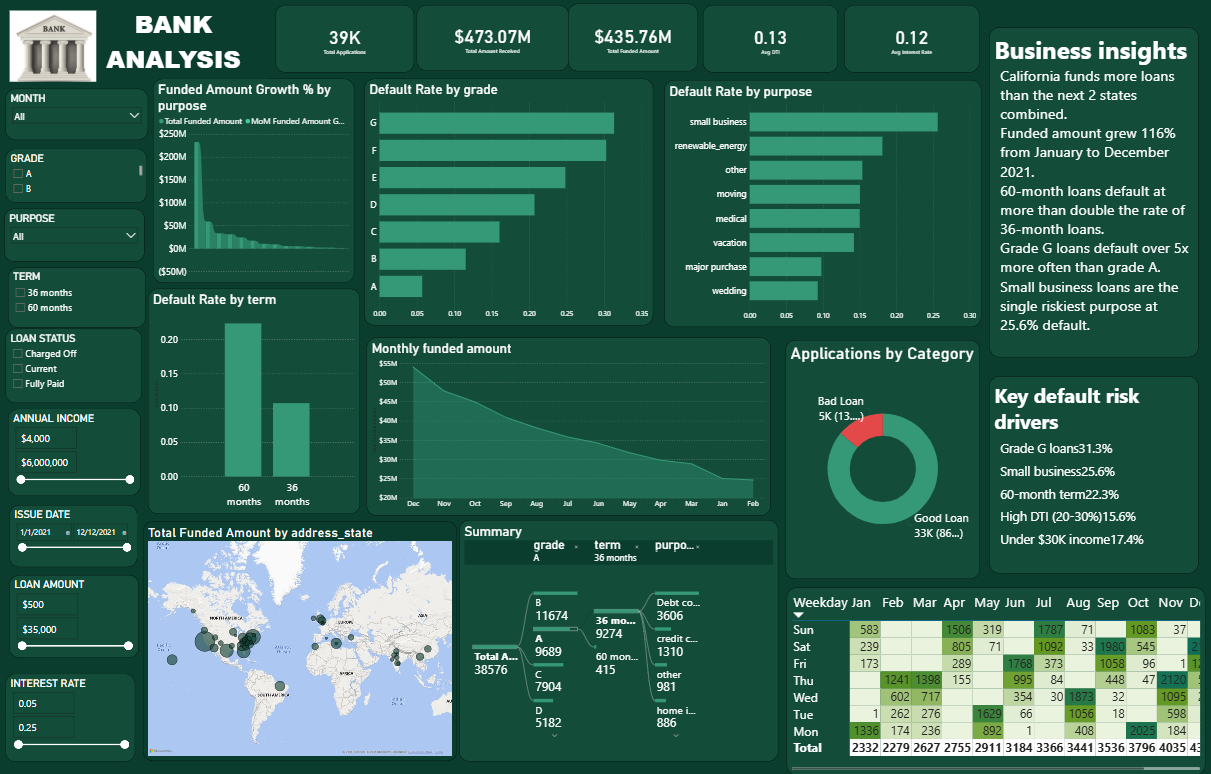

The dashboard page shown, as its layout file describes it:
{"tool":"powerbi","page":{"name":"Page 1","canvas":[3600,2300],"ordinal":0},"visuals":[{"type":"slicer","title":"MONTH","fields":{"Values":["DimDate.MonthName"]},"box":[24,264,422.4,152],"z":0},{"type":"card","fields":{"Values":["Table.Total Applications"]},"box":[822,14,410,200],"z":1000},{"type":"card","fields":{"Values":["Table.Total Amount Received"]},"box":[1240,15,450,195],"z":2000},{"type":"card","fields":{"Values":["Table.Avg Interest Rate"]},"box":[2507.2,16,400,200],"z":3000},{"type":"card","fields":{"Values":["Table.Total Funded Amount"]},"box":[1690,10,385,200],"z":4000},{"type":"card","fields":{"Values":["Table.Avg DTI"]},"box":[2089.6,16,400,200],"z":5000},{"type":"lineChart","title":"Monthly funded amount","fields":{"Category":["DimDate.MonthName"],"Y":["Table.Total Funded Amount"]},"box":[1091.2,1000,1196.8,528],"z":6000},{"type":"donutChart","title":"Applications by Category","fields":{"Category":["loans.loan_category"],"Y":["Table.Total Applications"]},"box":[2332,1008,576,708],"z":7000},{"type":"map","fields":{"Category":["loans.address_state"],"Size":["Table.Total Funded Amount"]},"box":[430,1545,930,710],"z":8000},{"type":"clusteredBarChart","fields":{"Category":["loans.grade"],"Y":["Table.Default Rate"]},"box":[1084,232,856,730.4],"z":9000},{"type":"clusteredBarChart","fields":{"Category":["loans.purpose"],"Y":["Table.Default Rate"]},"box":[1972.8,236,939.2,732],"z":10000},{"type":"clusteredColumnChart","fields":{"Y":["Table.Default Rate"],"Category":["loans.term"]},"box":[444,856.8,628,667.2],"z":11000},{"type":"slicer","title":"GRADE","fields":{"Values":["loans.grade"]},"box":[24,440,419.2,160],"z":12000},{"type":"slicer","title":"PURPOSE","fields":{"Values":["loans.purpose"]},"box":[20,620,416,156.8],"z":13000},{"type":"slicer","title":"TERM","fields":{"Values":["loans.term"]},"box":[28,793.6,408,178.4],"z":14000},{"type":"slicer","title":"ISSUE DATE","fields":{"Values":["loans.issue_date"]},"box":[32,1496,379.2,184],"z":15000},{"type":"slicer","title":"LOAN AMOUNT","fields":{"Values":["loans.loan_amount"]},"box":[32,1702.4,384,245.6],"z":16000},{"type":"slicer","title":"INTEREST RATE","fields":{"Values":["loans.int_rate"]},"box":[24,1995.2,384,260.8],"z":17000},{"type":"slicer","title":"LOAN STATUS","fields":{"Values":["loans.loan_status"]},"box":[21.6,975.2,404,220],"z":18000},{"type":"slicer","title":"ANNUAL INCOME","fields":{"Values":["loans.annual_income"]},"box":[28,1210.4,392,257.6],"z":19000},{"type":"decompositionTreeVisual","title":"Summary","fields":{"ExplainBy":["loans.grade","loans.term","loans.purpose"],"Analyze":["Table.Total Applications"]},"box":[1365,1540,945,715],"z":19002},{"type":"pivotTable","fields":{"Rows":["loans.Weekday"],"Columns":["loans.issue_month_name"],"Values":["Table.Total Applications"]},"box":[2336,1740.8,1240,556],"z":19003},{"type":"textbox","box":[2936,80,620,976.8],"z":19004},{"type":"textbox","box":[2935.2,1115.2,620,584],"z":19005},{"type":"ribbonChart","title":" Funded Amount Growth % by purpose","fields":{"Category":["loans.purpose"],"Y":["Table.Total Funded Amount","Table.MoM Funded Amount Growth %"]},"box":[460,232,596,604.8],"z":19006},{"type":"textbox","box":[237,14.8,566.7,218.5],"z":19007},{"type":"image","box":[29.6,0,266.7,274.1],"z":19008}]}

Visuals, with their boxes in screenshot pixels (x1, y1, x2, y2), scaled from the page's 3600x2300 canvas onto the 1211x774 screenshot:
"MONTH" slicer: <bbox>8, 89, 150, 140</bbox>
card - Table.Total Applications: <bbox>277, 5, 414, 72</bbox>
card - Table.Total Amount Received: <bbox>417, 5, 568, 71</bbox>
card - Table.Avg Interest Rate: <bbox>843, 5, 978, 73</bbox>
card - Table.Total Funded Amount: <bbox>568, 3, 698, 71</bbox>
card - Table.Avg DTI: <bbox>703, 5, 837, 73</bbox>
"Monthly funded amount" lineChart: <bbox>367, 337, 770, 514</bbox>
"Applications by Category" donutChart: <bbox>784, 339, 978, 577</bbox>
map - loans.address_state x Table.Total Funded Amount: <bbox>145, 520, 457, 759</bbox>
clusteredBarChart - loans.grade x Table.Default Rate: <bbox>365, 78, 653, 324</bbox>
clusteredBarChart - loans.purpose x Table.Default Rate: <bbox>664, 79, 980, 326</bbox>
clusteredColumnChart - Table.Default Rate x loans.term: <bbox>149, 288, 361, 513</bbox>
"GRADE" slicer: <bbox>8, 148, 149, 202</bbox>
"PURPOSE" slicer: <bbox>7, 209, 147, 261</bbox>
"TERM" slicer: <bbox>9, 267, 147, 327</bbox>
"ISSUE DATE" slicer: <bbox>11, 503, 138, 565</bbox>
"LOAN AMOUNT" slicer: <bbox>11, 573, 140, 656</bbox>
"INTEREST RATE" slicer: <bbox>8, 671, 137, 759</bbox>
"LOAN STATUS" slicer: <bbox>7, 328, 143, 402</bbox>
"ANNUAL INCOME" slicer: <bbox>9, 407, 141, 494</bbox>
"Summary" decompositionTreeVisual: <bbox>459, 518, 777, 759</bbox>
pivotTable - loans.Weekday x loans.issue_month_name: <bbox>786, 586, 1203, 773</bbox>
textbox: <bbox>988, 27, 1196, 356</bbox>
textbox: <bbox>987, 375, 1196, 572</bbox>
" Funded Amount Growth % by purpose" ribbonChart: <bbox>155, 78, 355, 282</bbox>
textbox: <bbox>80, 5, 270, 79</bbox>
image: <bbox>10, 0, 100, 92</bbox>
